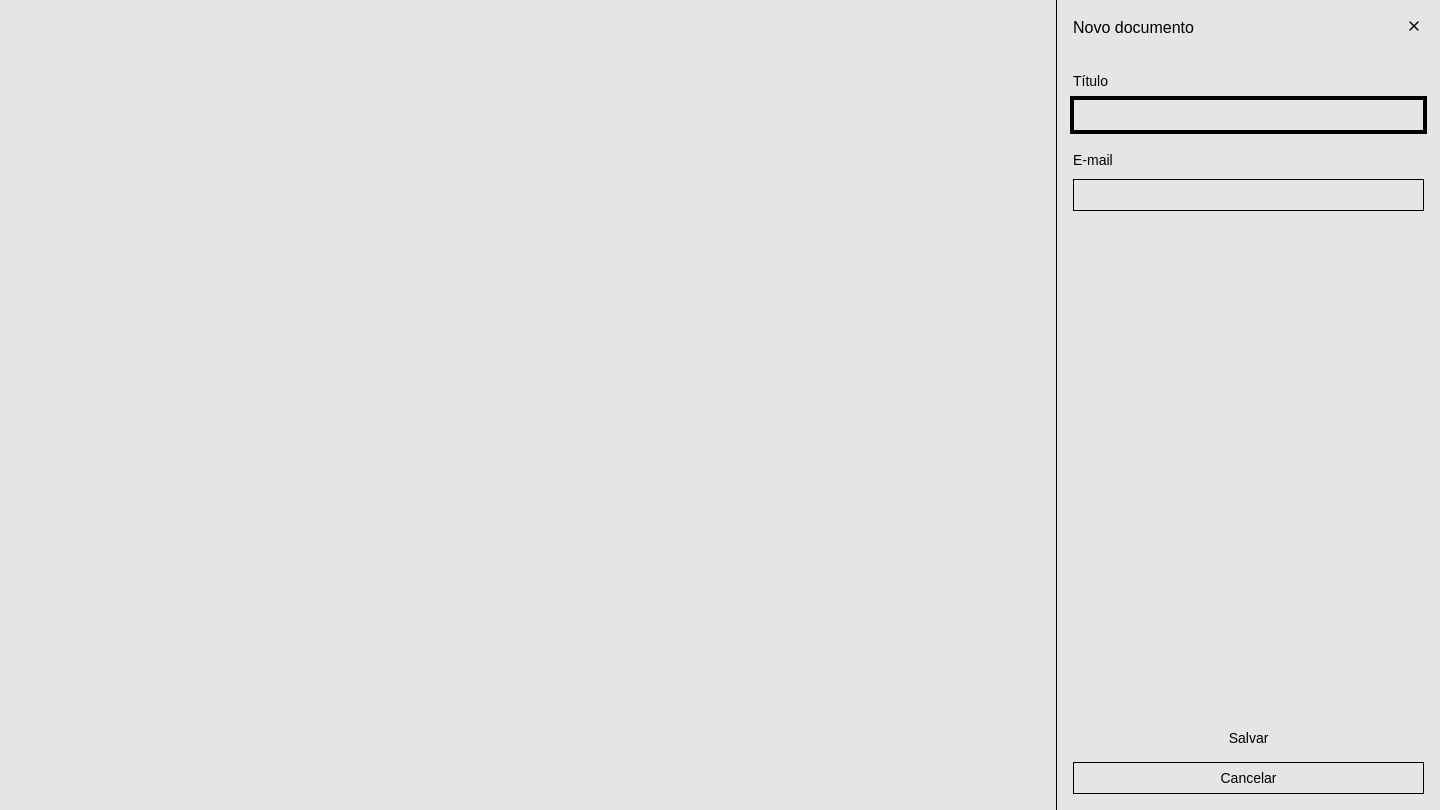
EntityForm dentro de um Sheet › com alterações, fechar pede confirmação e o Sheet continua aberto
This screenshot has width=1440, height=810.
Later steps or results of the test are not shown.
Step 1. Type "Rascunho" into the field labelled "Título" → (1248, 115), box [1073,99,1424,131]
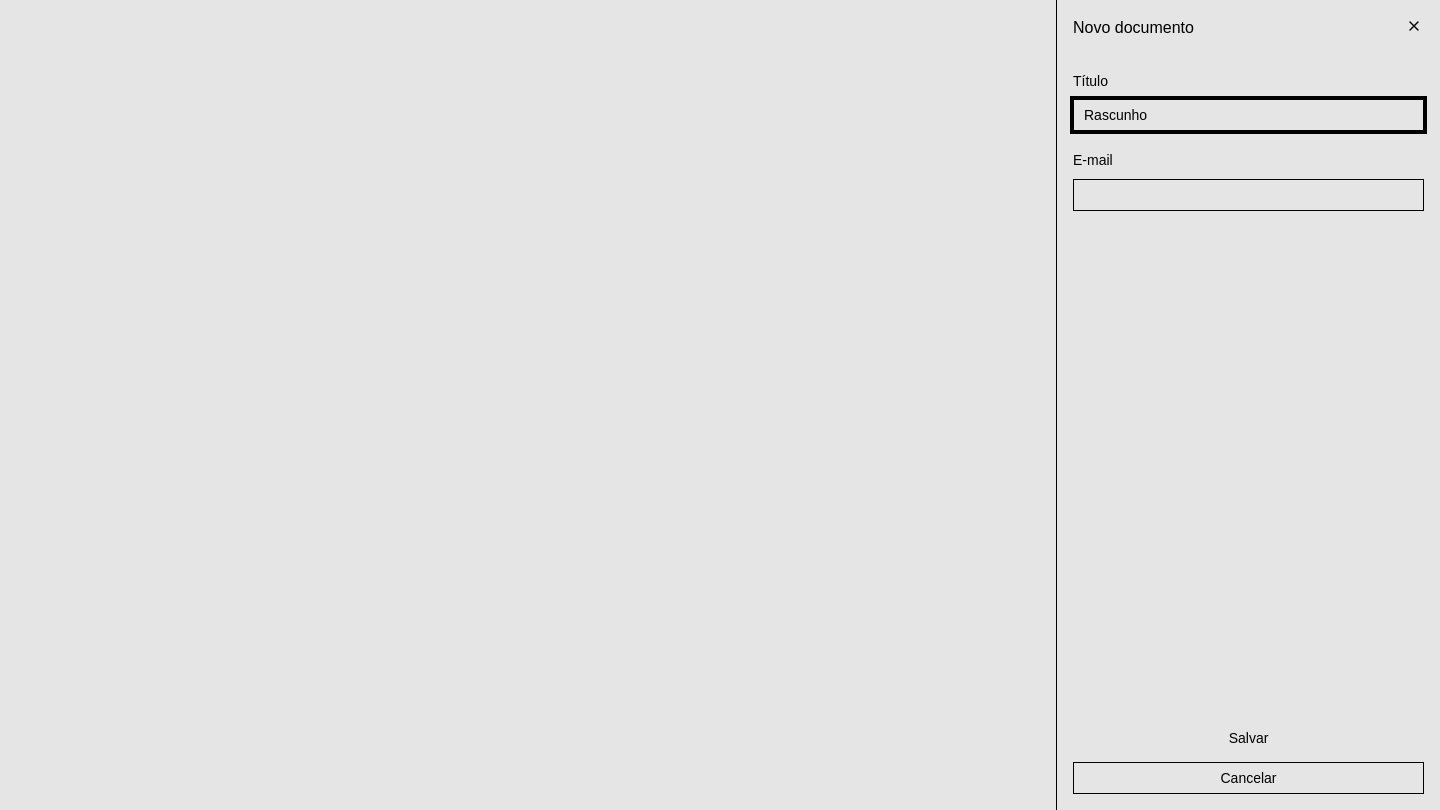
Step 2. Click the button "Cancelar" → (1248, 778), box [1073,762,1424,794]
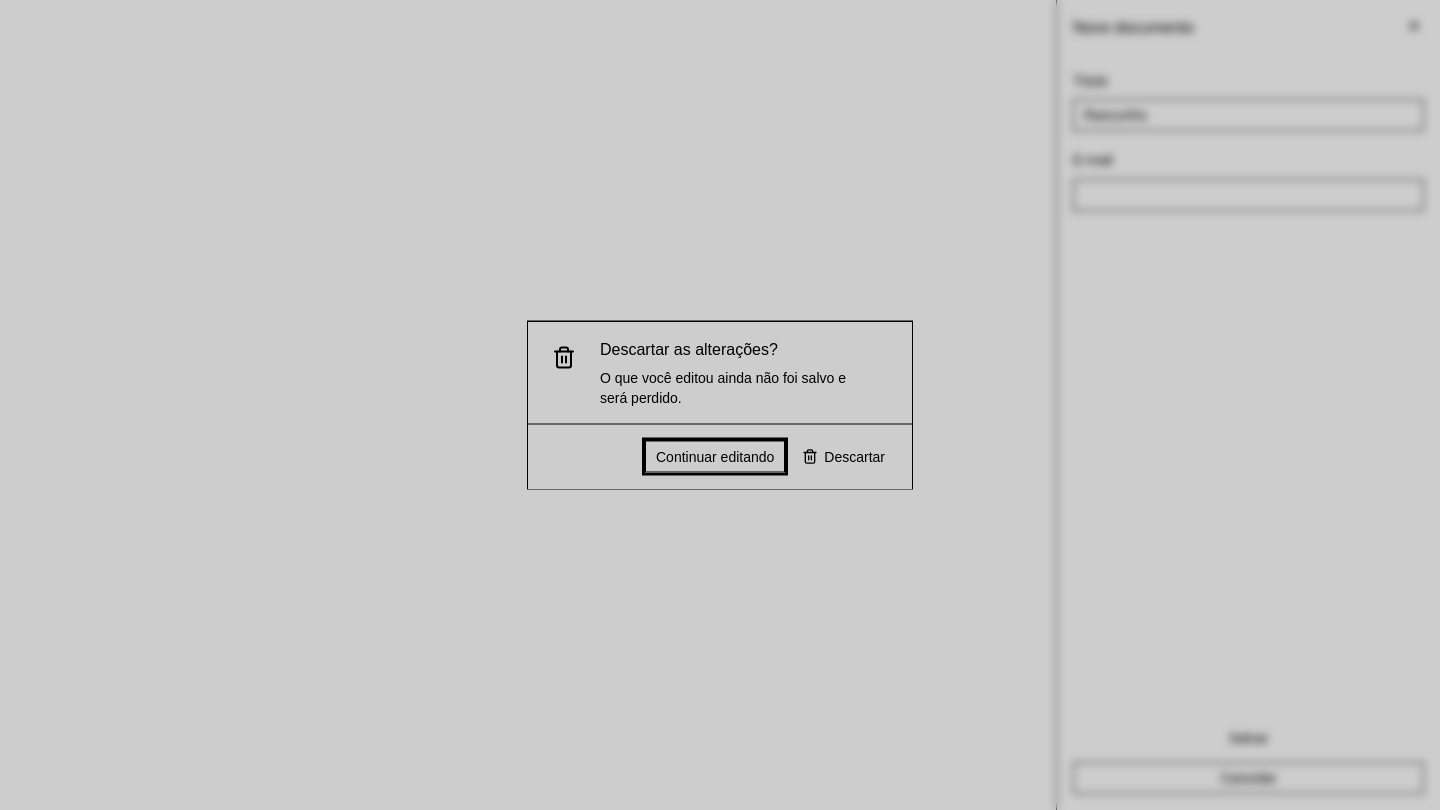
Now the heading "Descartar as alterações?" is shown, box [600,338,778,362]
